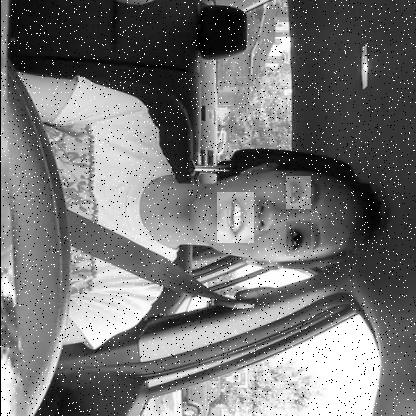seatbelt: (69, 125, 395, 303)
